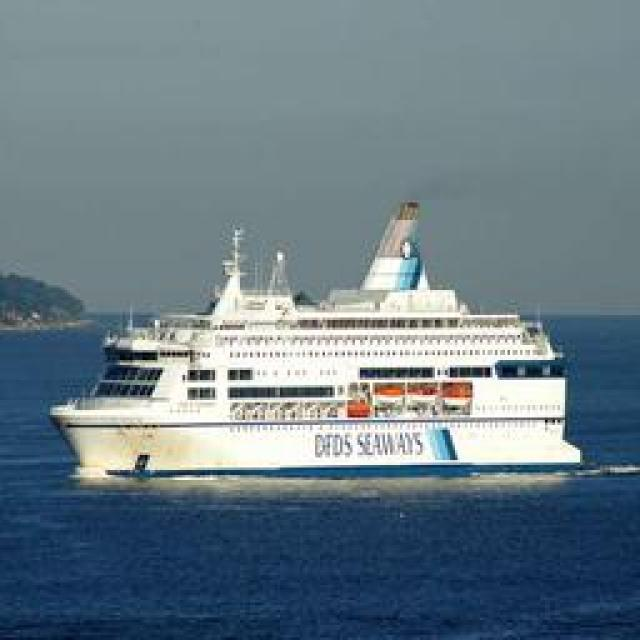CIV_Ship: (49, 206, 579, 476)
